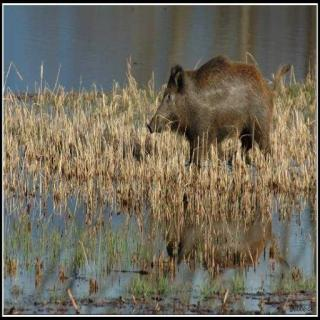Pig: (134, 54, 320, 175)
